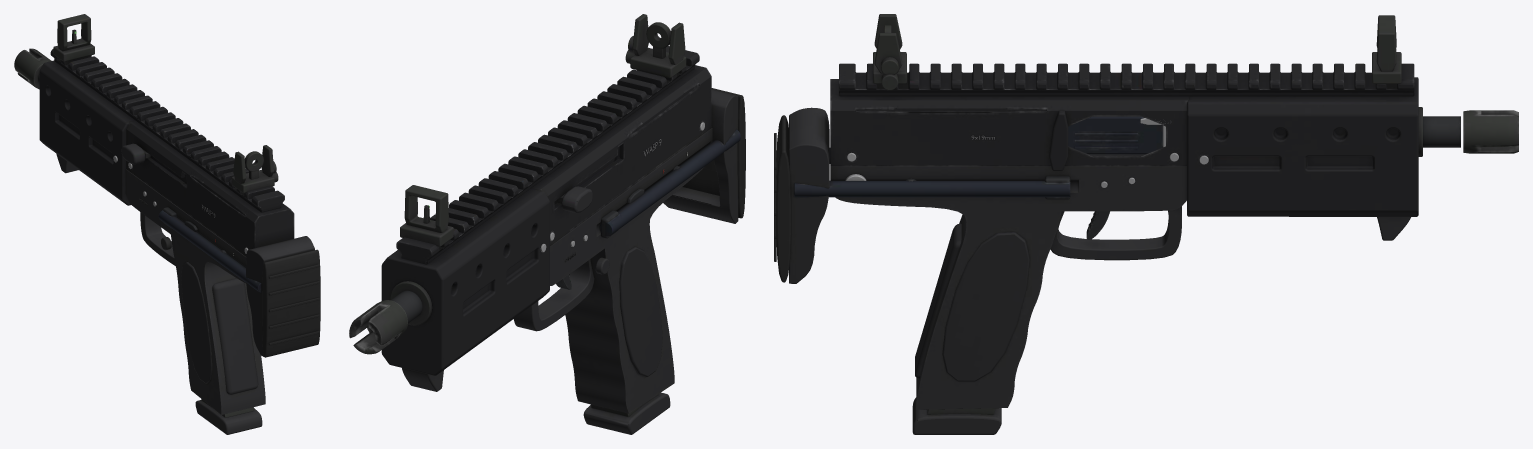
Rendered from smg.glb.
3 views of the same model, side by side, from view 1: azimuth 30°, elevation 25°; view 2: azimuth 150°, elevation 25°; view 3: azimuth 270°, elevation 25° (orthographic). The views are drawn at different scales.
Visible parts, largest first — view 1: body, mag; view 2: body, mag; view 3: body, slide, mag.
Part boxes in pixels (x1,y1,x2,y2): body: (14, 14, 320, 414); mag: (195, 399, 262, 434); body: (349, 14, 745, 413); mag: (583, 392, 670, 434); body: (774, 14, 1518, 409); slide: (1068, 116, 1165, 154); mag: (912, 397, 1001, 434).
Size of the model in its own units: 0.0484 by 0.2075 by 0.3507.
14 materials, 14 textured.
